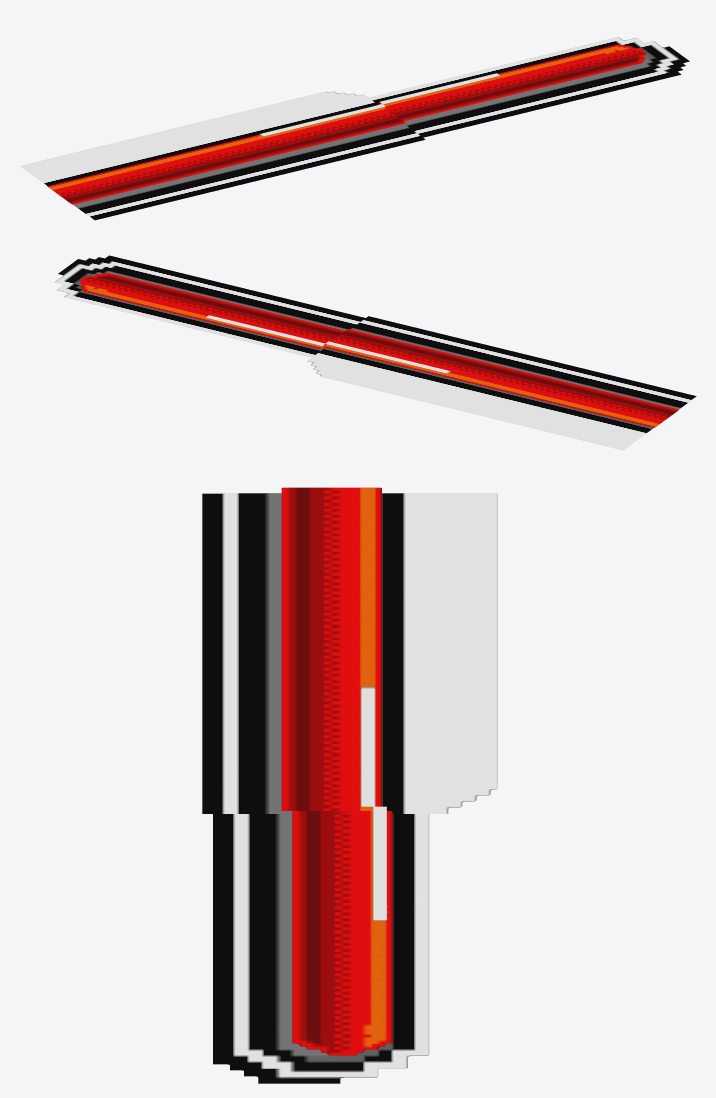
The model's file is lifemeter.FBX.
3 views of the same model, one above another, from view 1: azimuth 30°, elevation 25°; view 2: azimuth 150°, elevation 25°; view 3: azimuth 270°, elevation 25° (orthographic). The views are drawn at different scales.
Parts seen in each view (by area): view 1: life_empty, life_full; view 2: life_empty, life_full; view 3: life_empty, life_full.
Part boxes in pixels (x1,y1,x2,y2): life_empty: [20, 37, 689, 220]; life_full: [47, 44, 646, 204]; life_empty: [55, 255, 696, 450]; life_full: [79, 272, 678, 427]; life_empty: [202, 493, 497, 1083]; life_full: [281, 487, 392, 1055].
Size of the model in its own units: 48.28 by 0.2835 by 10.81.
